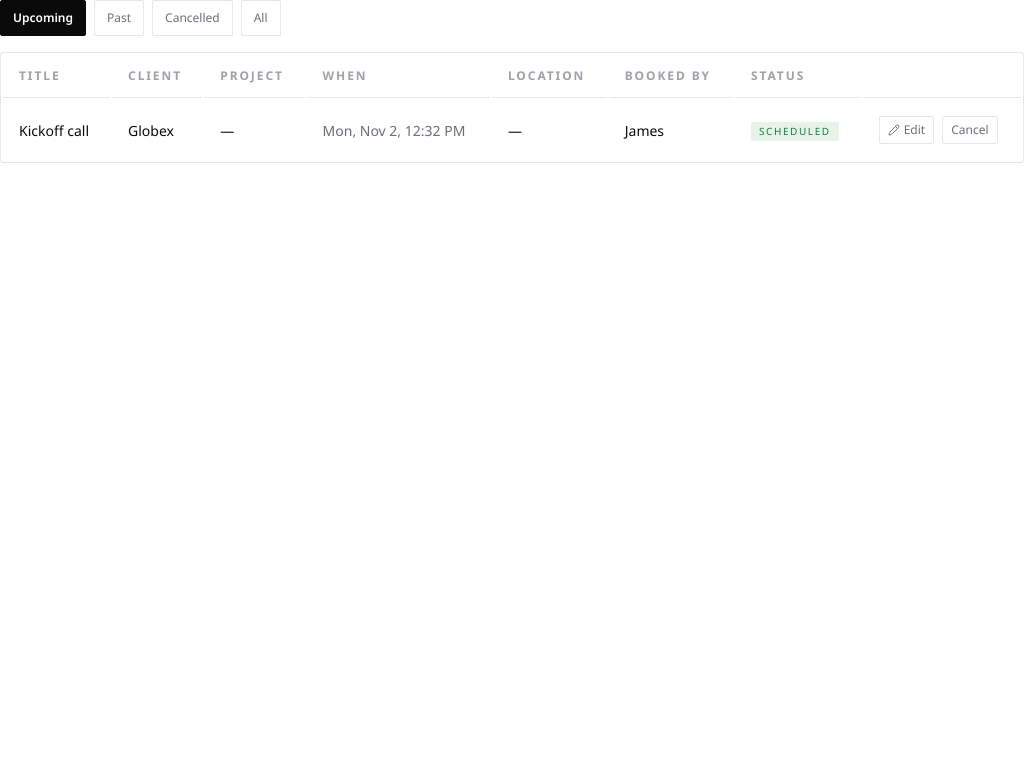
MeetingsTable › opens the edit dialog, prefilled, for a scheduled meeting
Click the button with aria-label "Edit meeting" at (906,130), box left=879, top=116, right=934, bottom=144
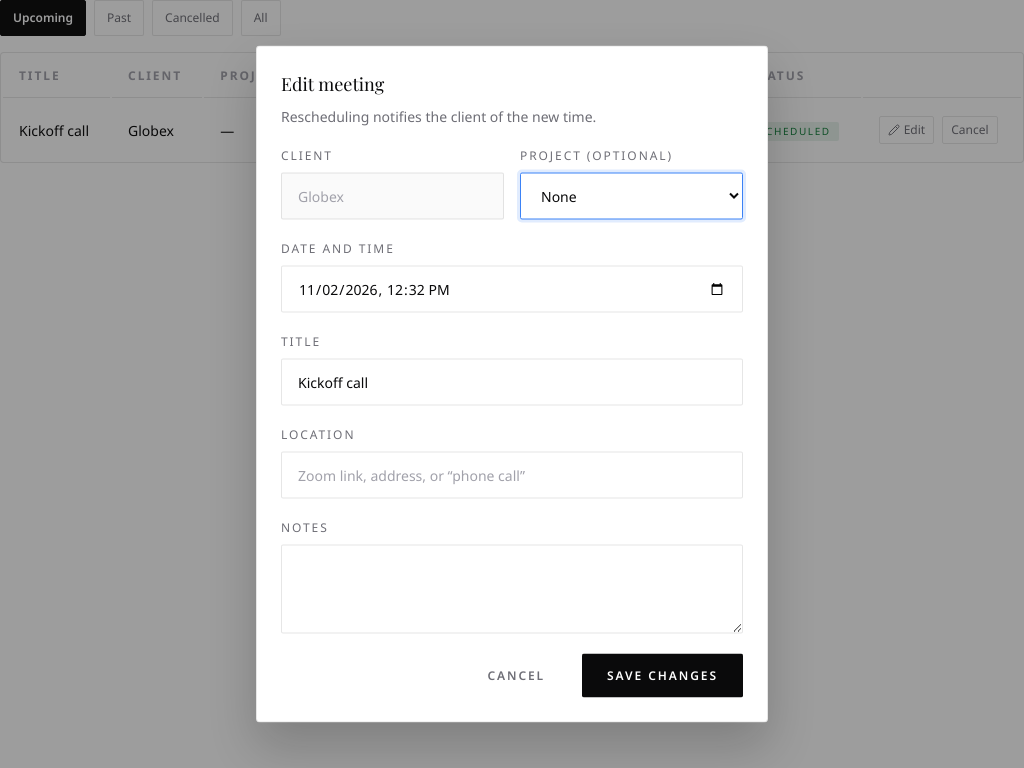
Check: the heading "Edit meeting" is shown, box left=281, top=72, right=384, bottom=96
Check: the field labelled "Title" holds "Kickoff call", box left=281, top=358, right=743, bottom=406
